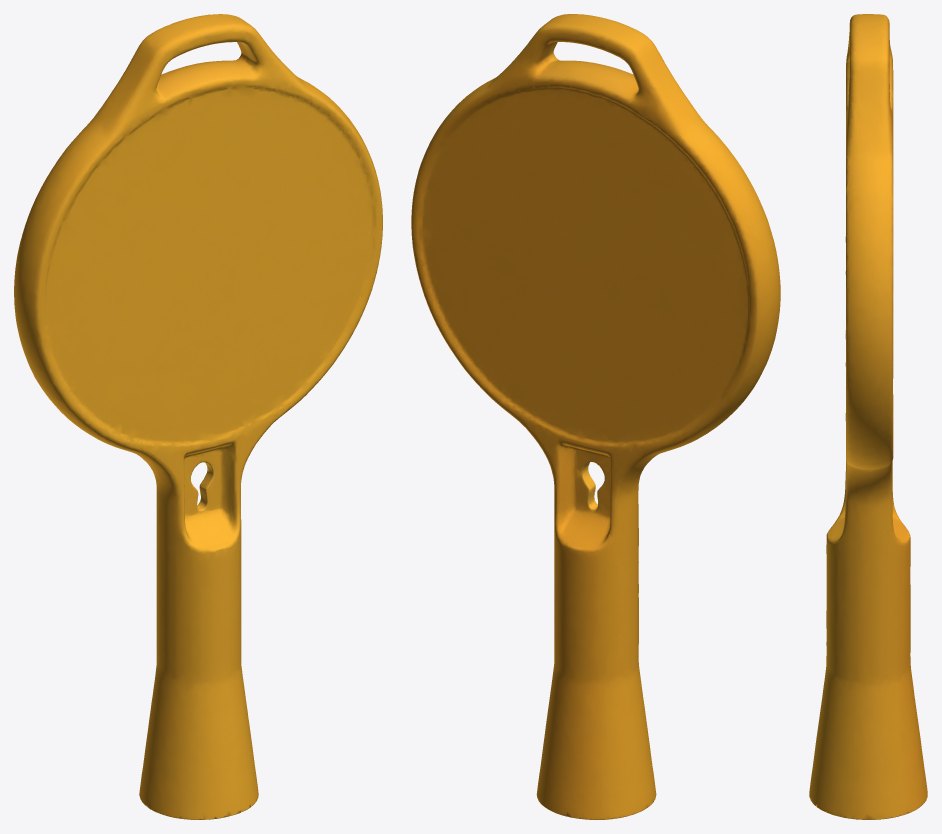
File: paleta.glb
The picture shows the model from 3 angles, left to right: view 1: azimuth 30°, elevation 25°; view 2: azimuth 150°, elevation 25°; view 3: azimuth 270°, elevation 25°; orthographic projection.
Size of the model in its own units: 0.9191 by 1.9 by 0.2656.
1 material, 1 textured.
